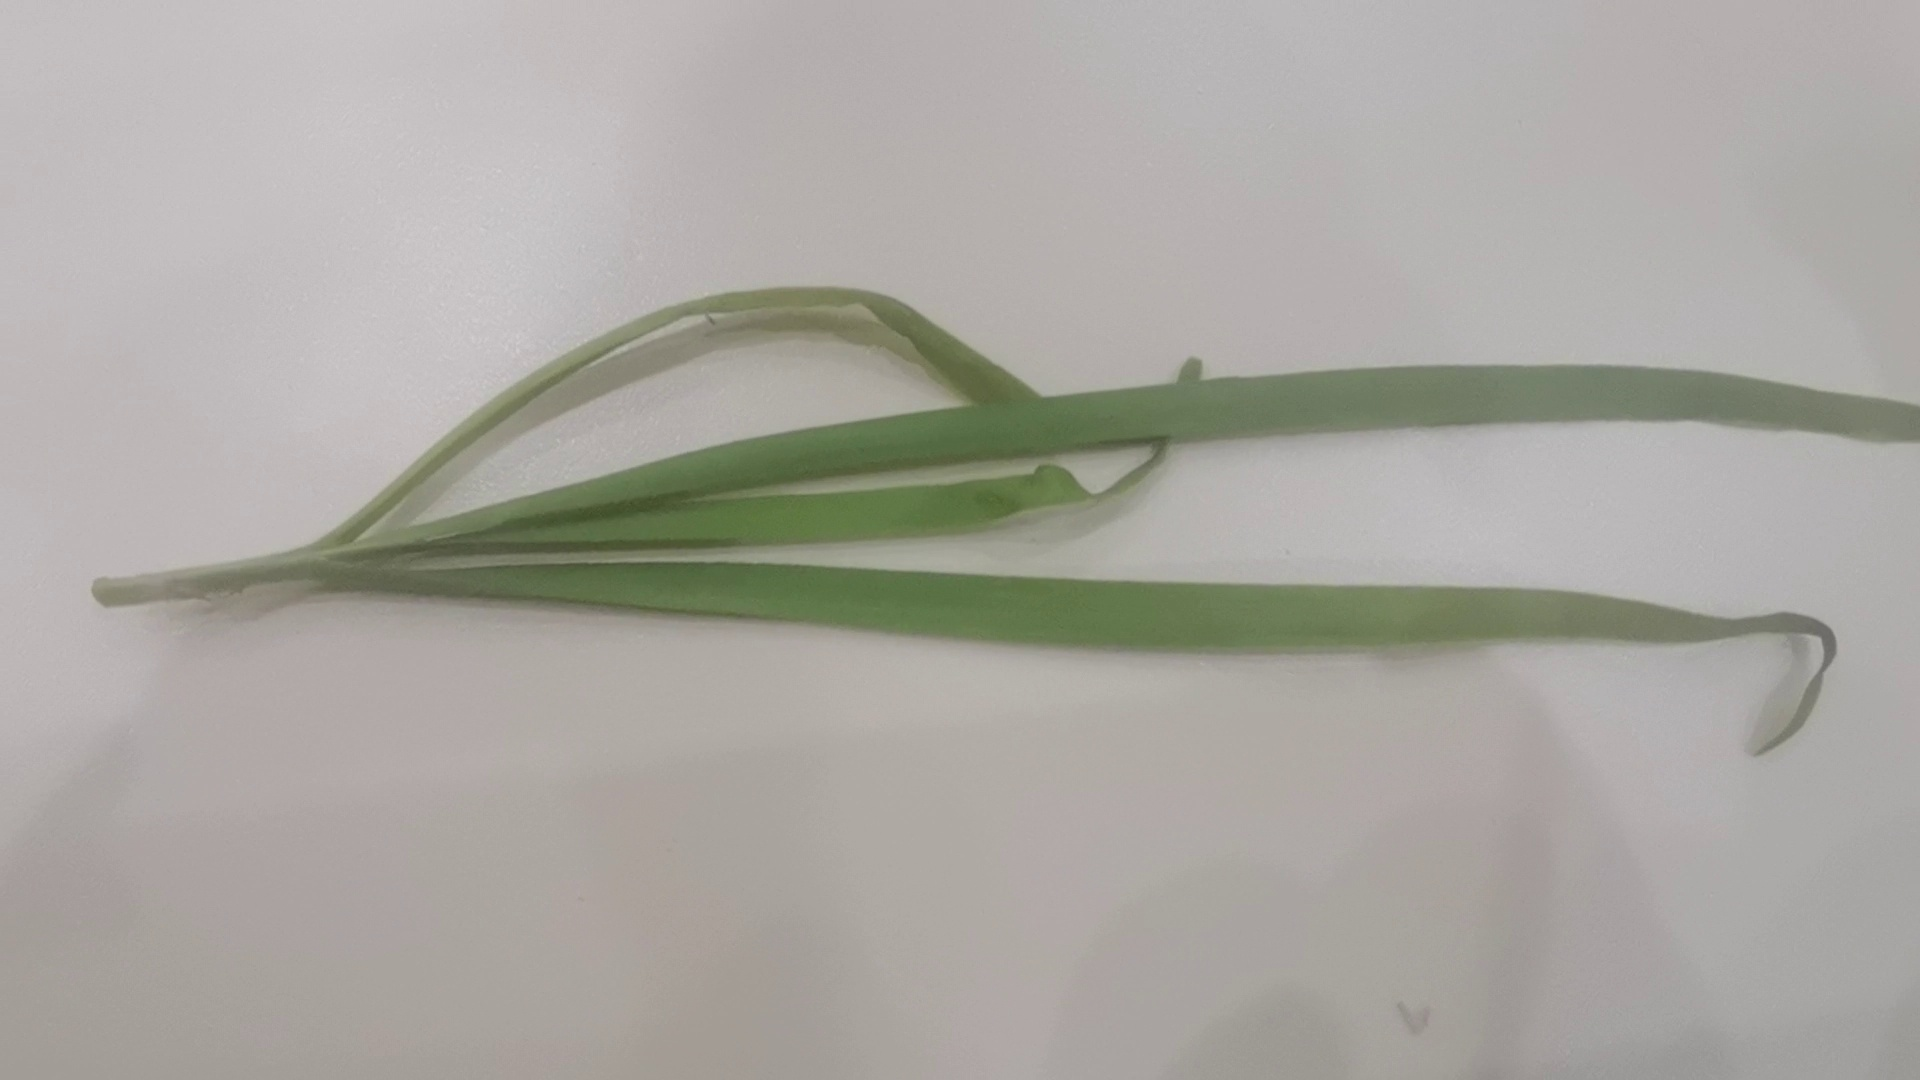chives: (69, 274, 1920, 737)
